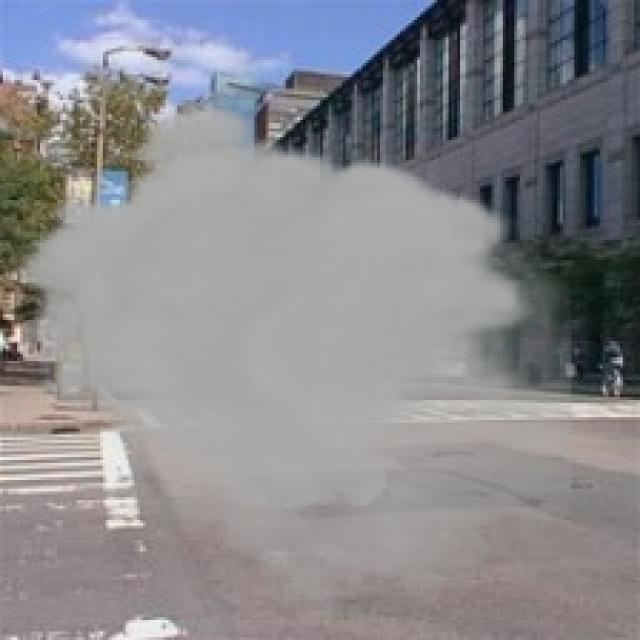Smoke: (11, 100, 572, 623)
